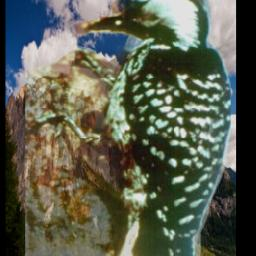Woodpecker: (25, 0, 231, 256)
